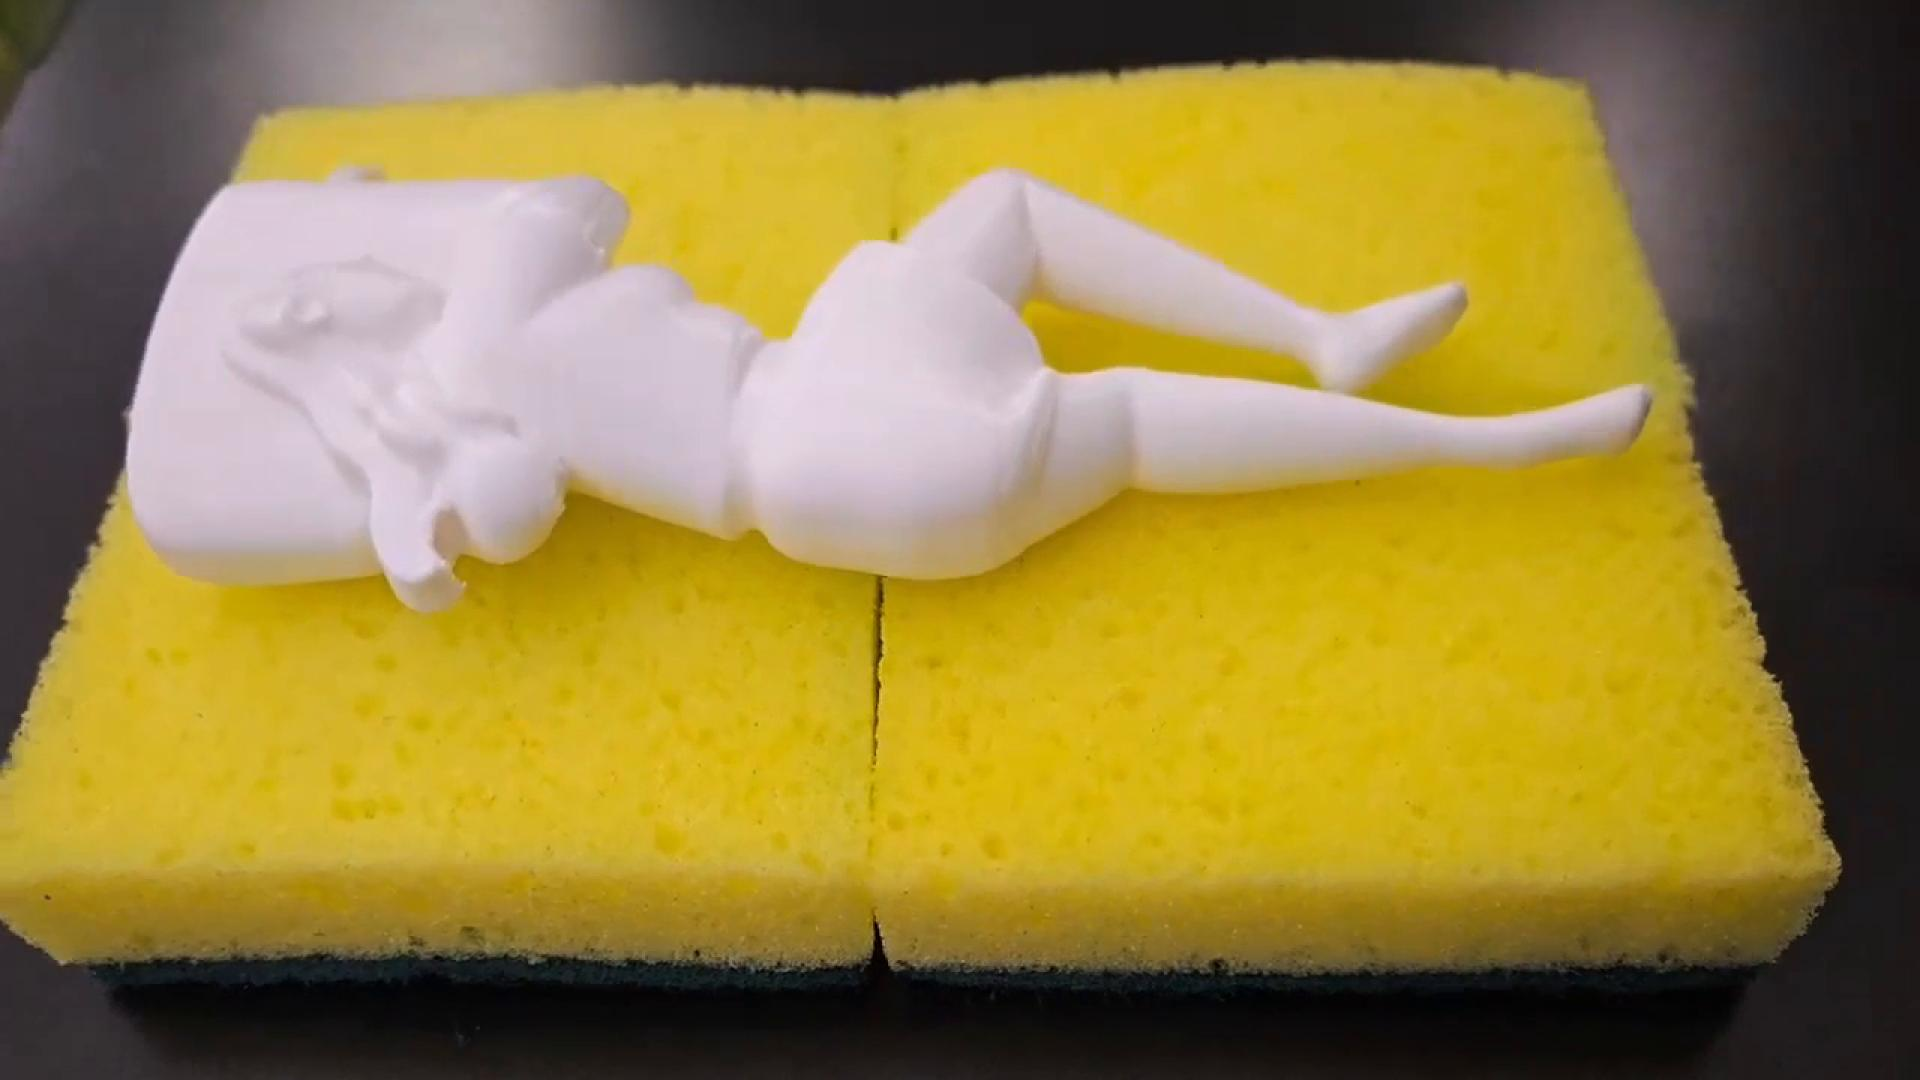Good-style: (123, 157, 1656, 605)
